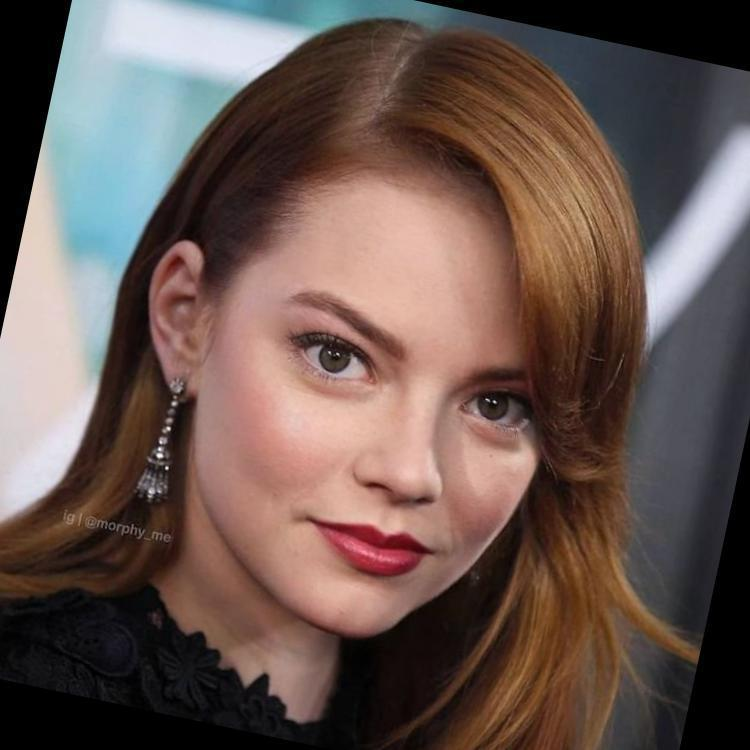Sober: (226, 187, 536, 604)
